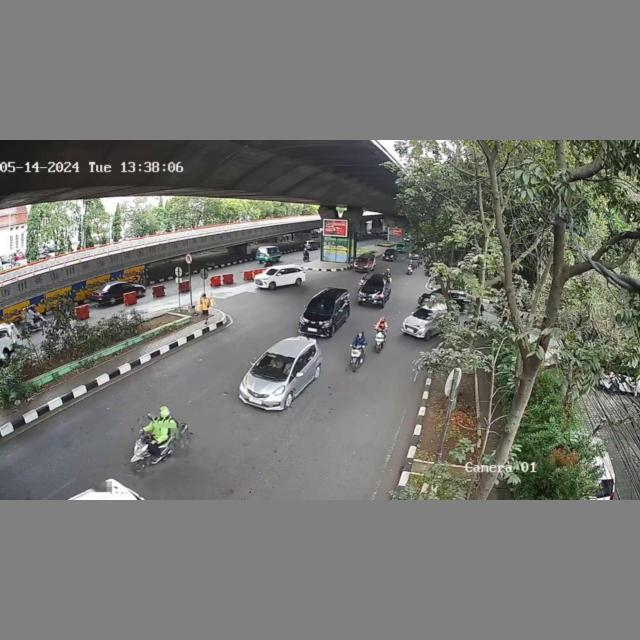windshield: (254, 352, 295, 381), (304, 297, 336, 314)
